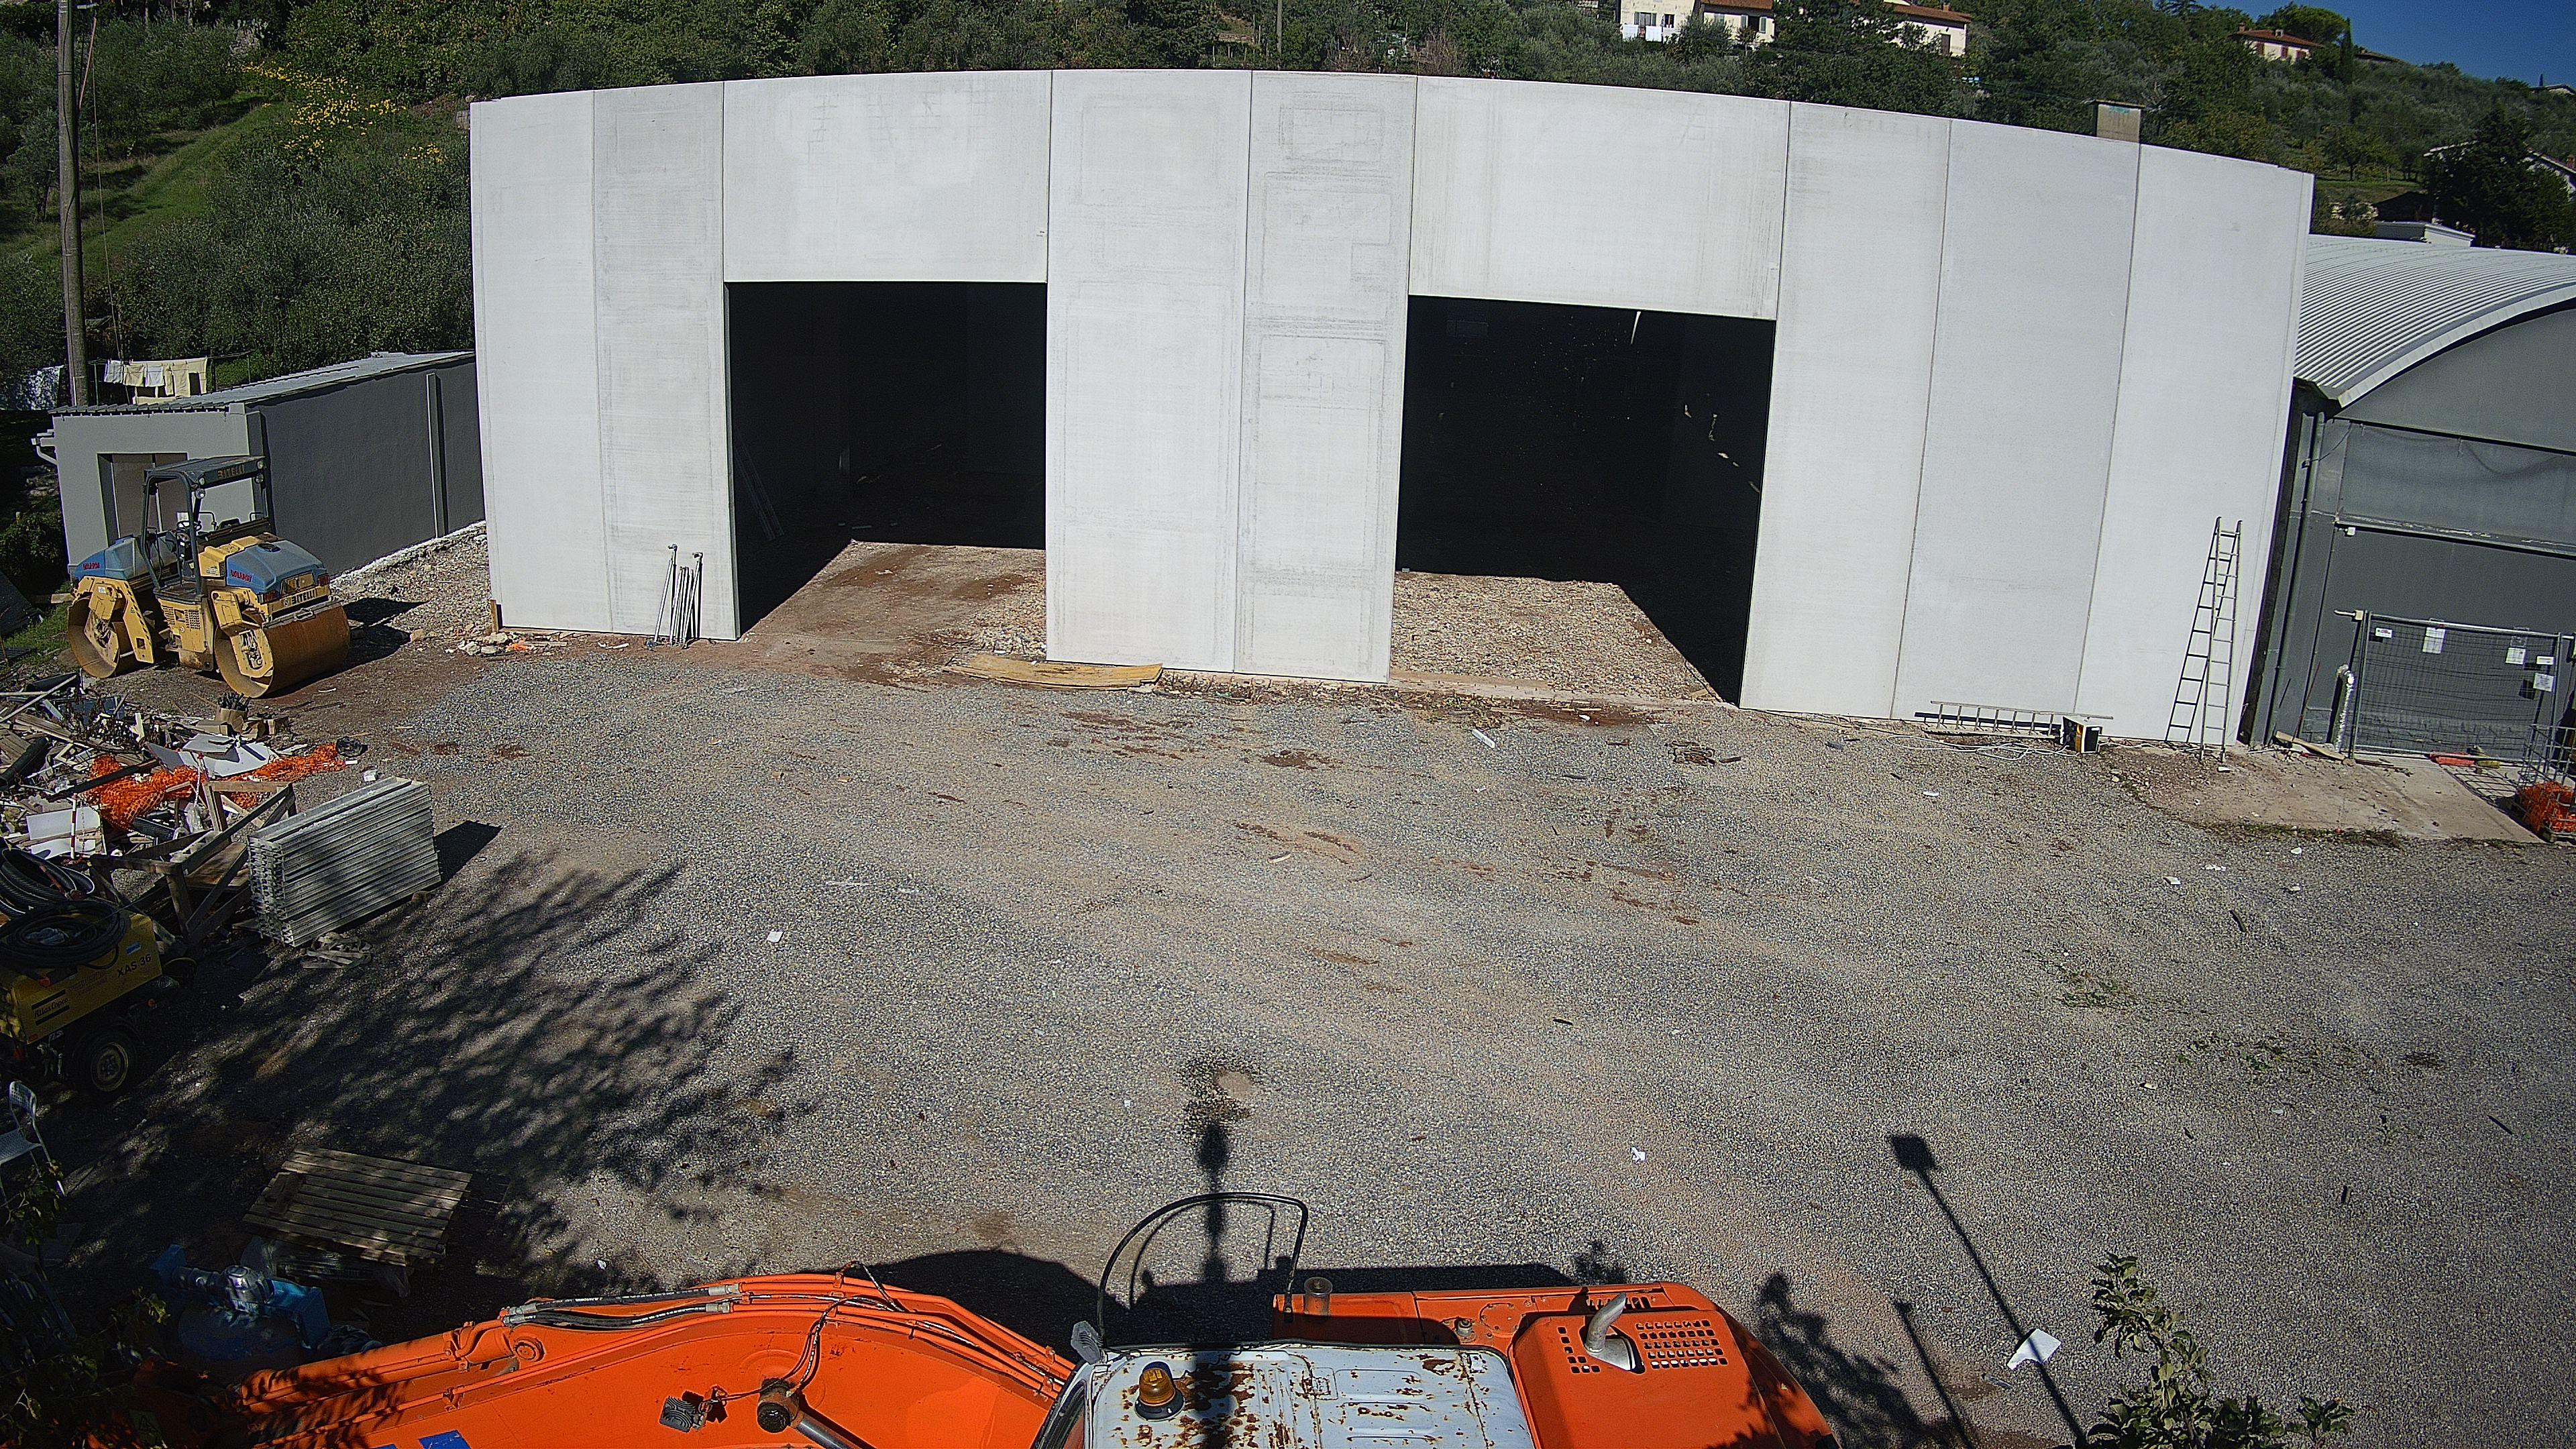excavator: (0, 1256, 1844, 1449)
